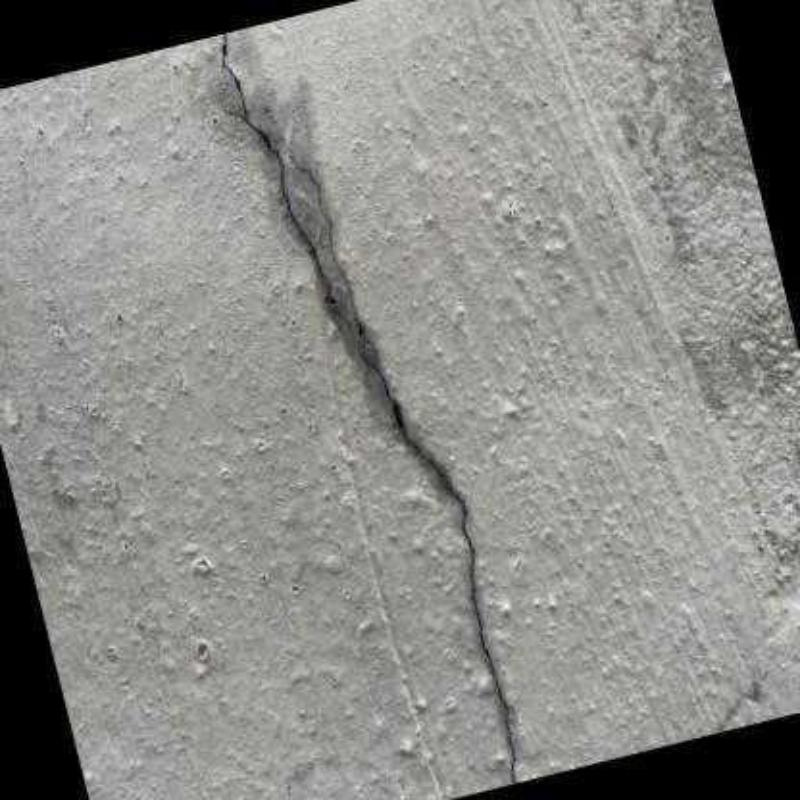pothole: (292, 147, 520, 785), (221, 33, 343, 321)
